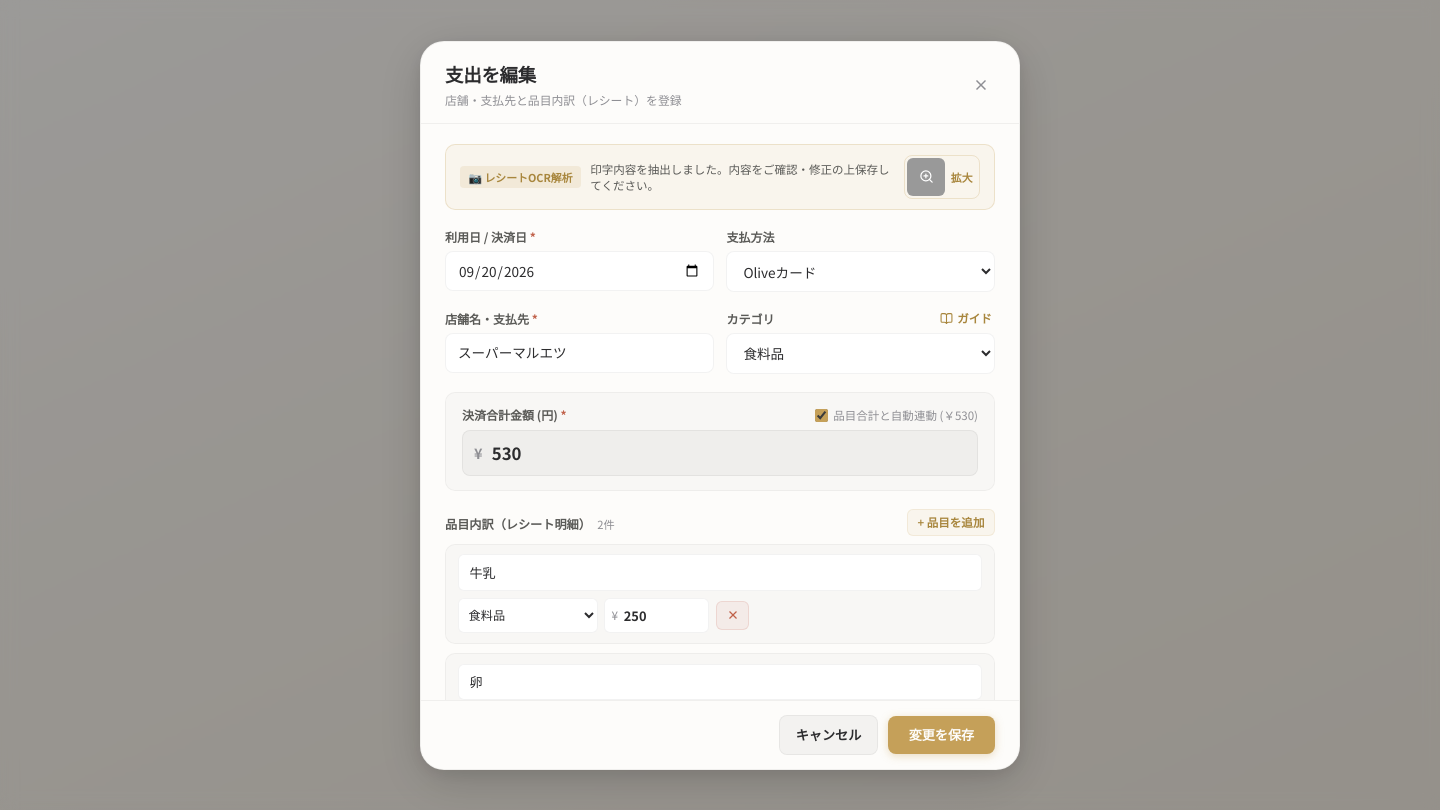
Test: TransactionModal コンポーネント - レシート拡大プレビュー機能 › 拡大ボタンをクリックすると、ライトボックスプレビューモーダルがポップアップ表示される
The width and height of the screenshot is (1440, 810).
expect the text "レシート写真プレビュー" is not shown: met
Note: 拡大ボタンをクリック
What coordinates should you click on to do the following:
click the button with aria-label "クリックしてレシート写真を拡大表示"
I would click on:
 (942, 176)
Its box is [904,154,980,198].
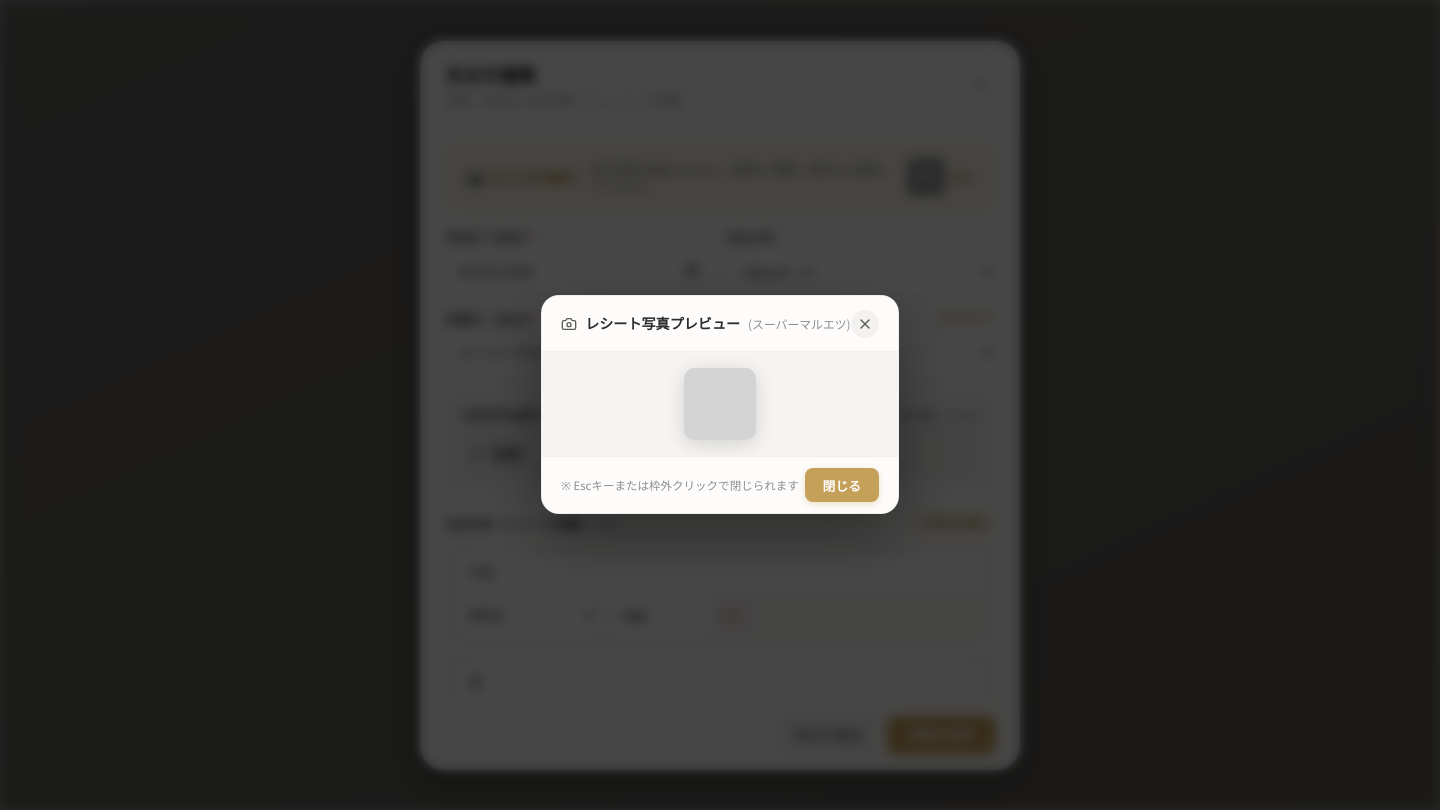
expect the text "レシート写真プレビュー" is shown: met, box [585,314,740,335]
expect the text "(スーパーマルエツ)" is shown: met, box [748,315,851,333]
